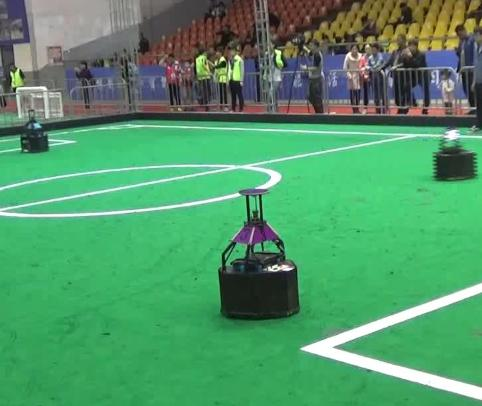robot: (217, 184, 305, 320)
